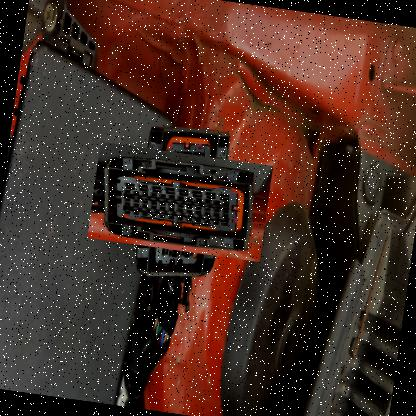Connector: (101, 124, 256, 278)
